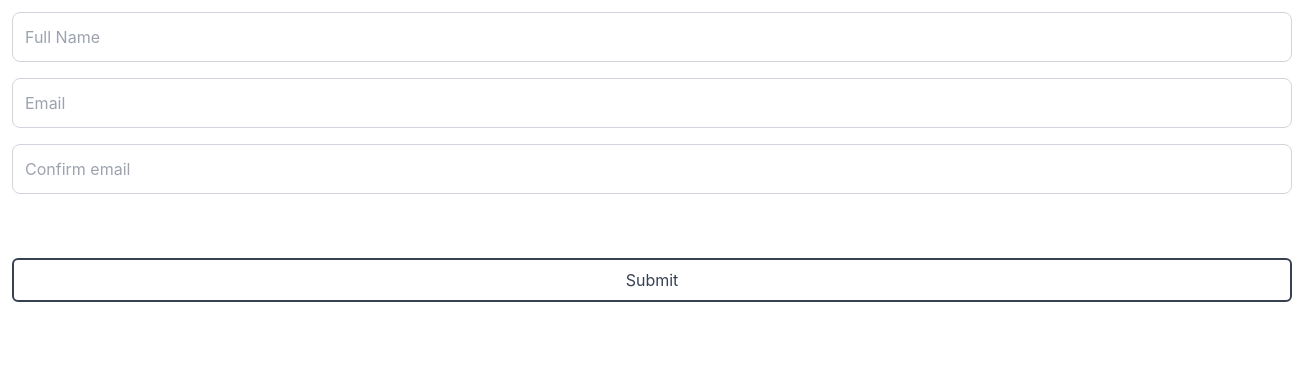
Scenario: UserEmailForm › should show an error if the name is empty
This screenshot has width=1304, height=387.
Click the button "Submit" at (652, 280), box [12, 258, 1292, 302]
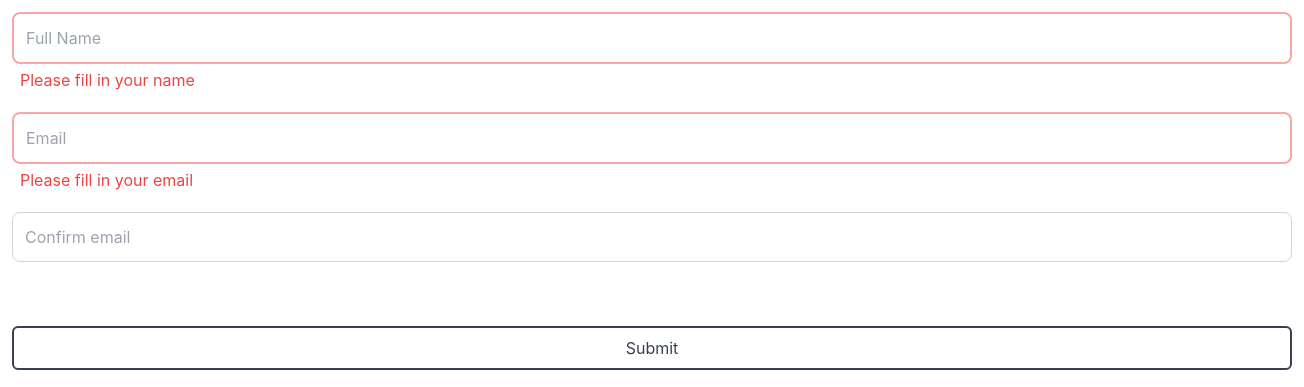
Result: the text "Please fill in your name" is shown at [20, 70, 195, 90]
